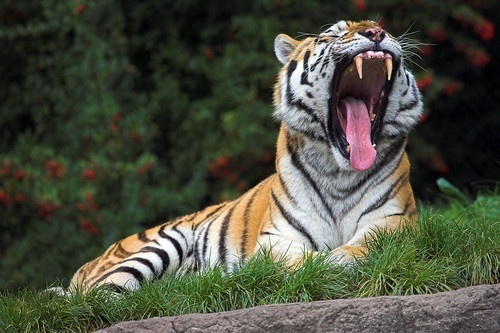tigre: (46, 17, 425, 299)
